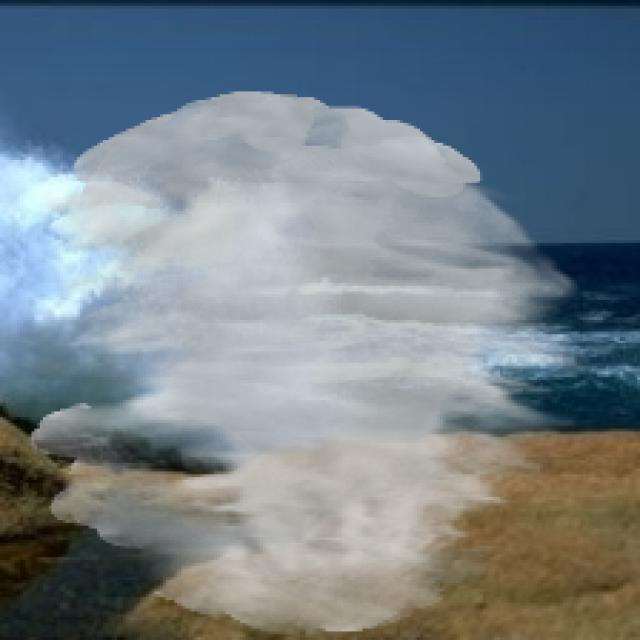smoke: (28, 91, 583, 634)
